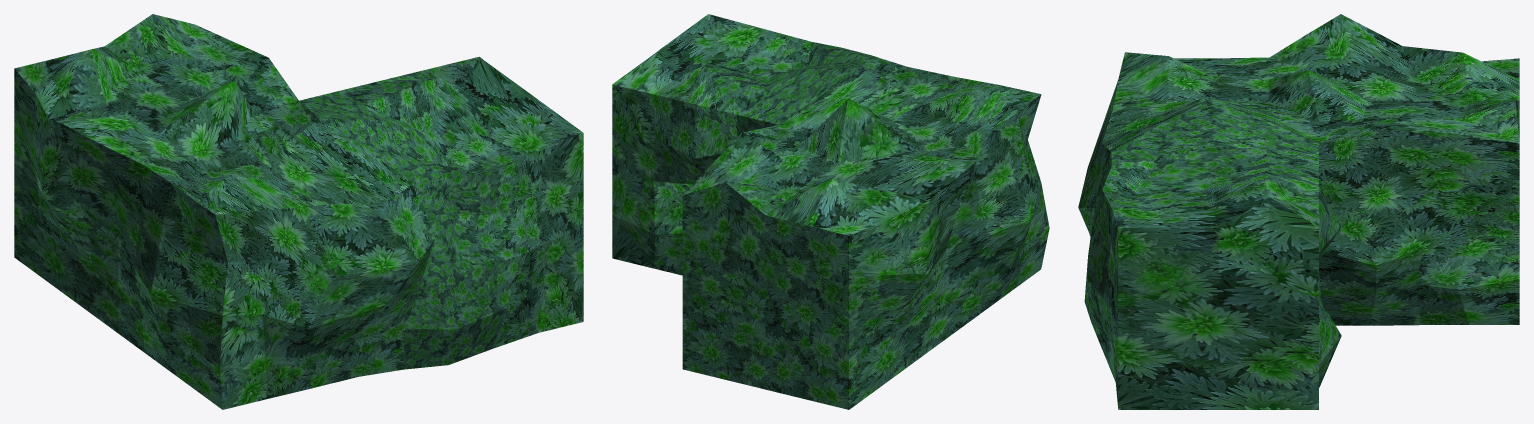
The model's file is modul_4_ok.fbx.
3 views of the same model, side by side, from view 1: azimuth 30°, elevation 25°; view 2: azimuth 150°, elevation 25°; view 3: azimuth 270°, elevation 25° (orthographic). The views are drawn at different scales.
Parts seen in each view (by area): view 1: Cube; view 2: Cube; view 3: Cube.
Boxes of the visible parts, left/top/right/bottom form: Cube: left=14, top=14, right=583, bottom=409; Cube: left=612, top=14, right=1049, bottom=409; Cube: left=1078, top=14, right=1519, bottom=409.
Size of the model in its own units: 450 by 248 by 440.
